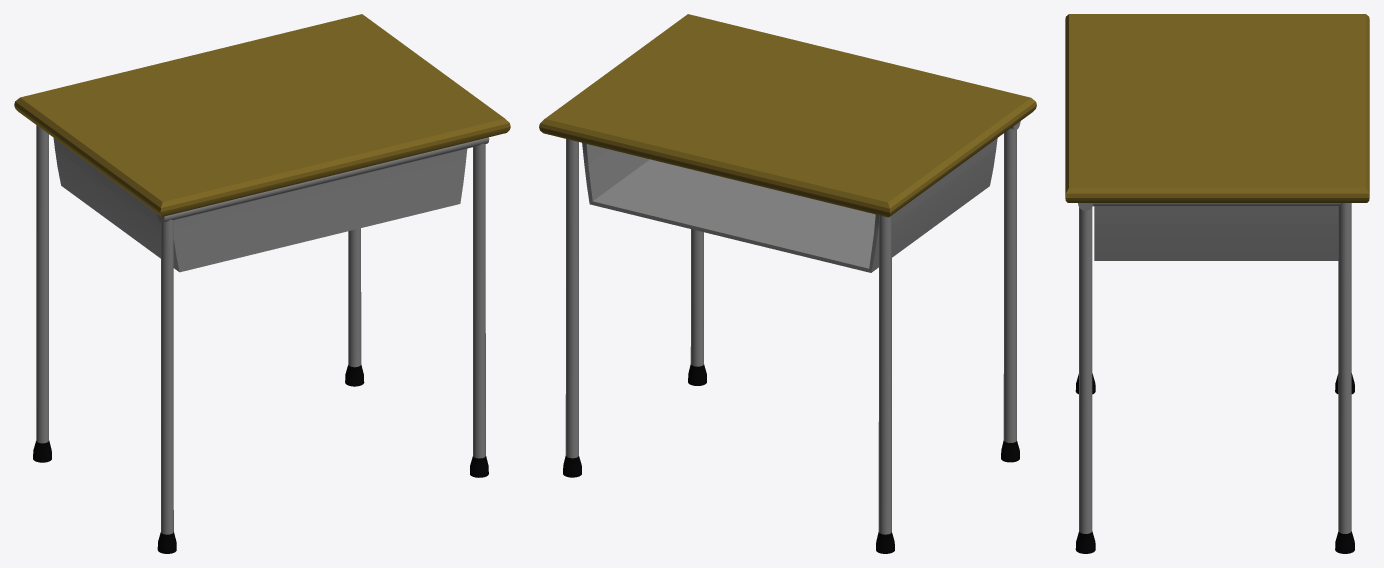
The model's file is SchoolDesk.fbx.
3 renders of one model, left to right at view 1: azimuth 30°, elevation 25°; view 2: azimuth 150°, elevation 25°; view 3: azimuth 270°, elevation 25°, orthographic. The views are drawn at different scales.
Visible parts, largest first — view 1: SchoolDesk; view 2: SchoolDesk; view 3: SchoolDesk.
Part boxes in pixels (box(x1,y1,x2,y2)): SchoolDesk: box(14, 14, 510, 553); SchoolDesk: box(539, 14, 1036, 553); SchoolDesk: box(1065, 14, 1369, 553).
Size of the model in its own units: 3.22 by 3.14 by 2.33.
